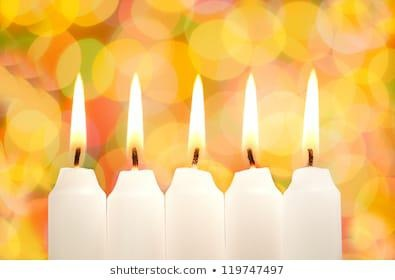fire: (239, 67, 259, 158), (301, 64, 320, 157), (124, 68, 143, 159), (70, 67, 89, 156), (189, 70, 207, 161)
